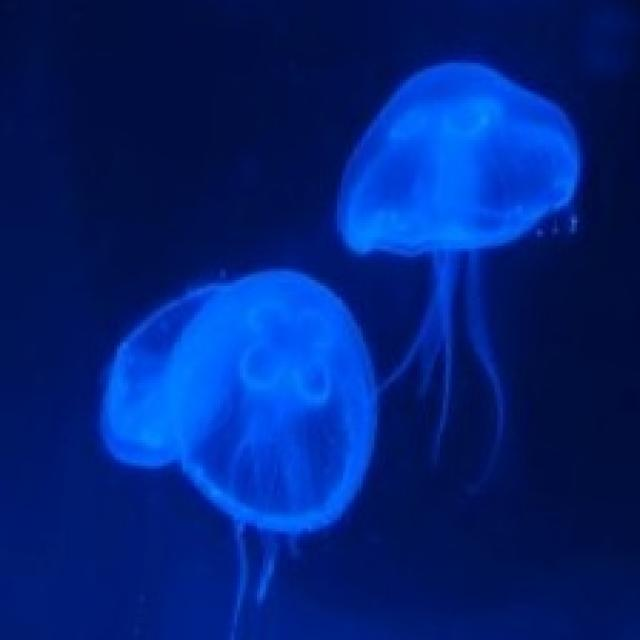Moon-jellyfish: (331, 57, 583, 500), (97, 263, 380, 637)
